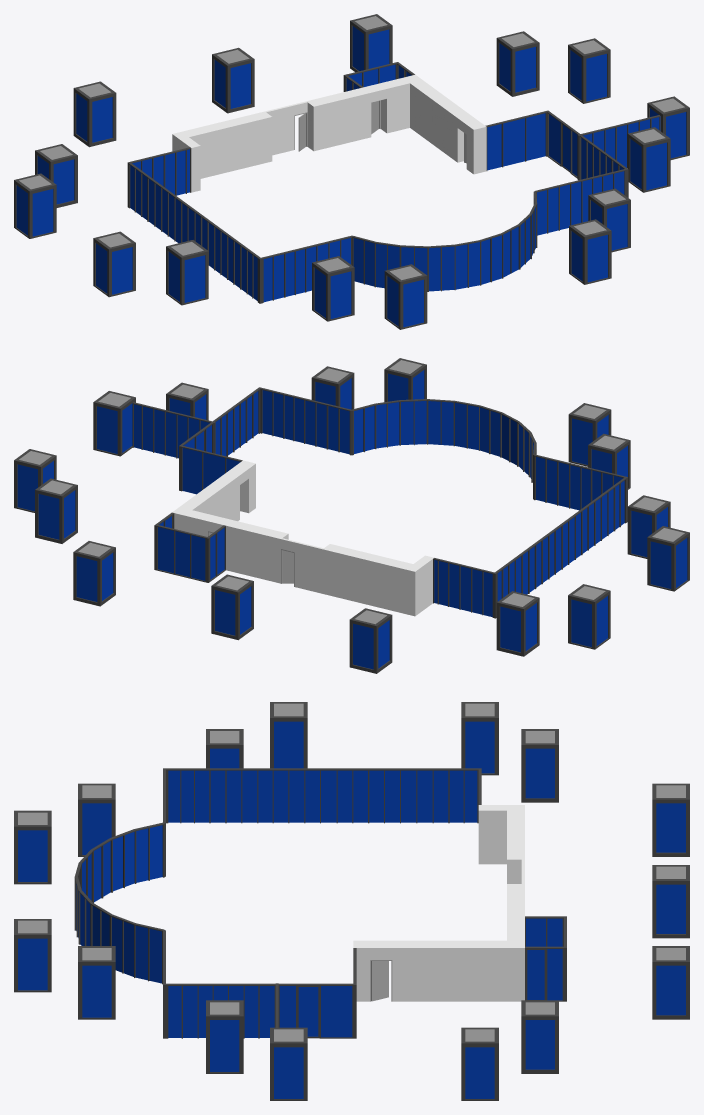
The model's file is floor3.glb.
3 renders of one model, top to bottom at view 1: azimuth 30°, elevation 25°; view 2: azimuth 150°, elevation 25°; view 3: azimuth 270°, elevation 25°, orthographic. The views are drawn at different scales.
Parts seen in each view (by area): view 1: Floor plans Parking Level 3 (1), Floor plans Parking Level 3 Window Glass, Floor plans Parking Level 3 Wall, Floor plans Parking Level 3 Window Joinery; view 2: Floor plans Parking Level 3 (1), Floor plans Parking Level 3 Window Glass, Floor plans Parking Level 3 Wall, Floor plans Parking Level 3 Window Joinery; view 3: Floor plans Parking Level 3 (1), Floor plans Parking Level 3 Window Glass, Floor plans Parking Level 3 Wall, Floor plans Parking Level 3 Window Joinery.
Boxes of the visible parts, bbox=[...] form: Floor plans Parking Level 3 (1): bbox=[14, 14, 689, 329]; Floor plans Parking Level 3 Window Glass: bbox=[130, 64, 660, 302]; Floor plans Parking Level 3 Wall: bbox=[172, 74, 486, 192]; Floor plans Parking Level 3 Window Joinery: bbox=[127, 62, 660, 303]; Floor plans Parking Level 3 (1): bbox=[14, 358, 689, 673]; Floor plans Parking Level 3 Window Glass: bbox=[132, 390, 624, 616]; Floor plans Parking Level 3 Wall: bbox=[172, 460, 433, 616]; Floor plans Parking Level 3 Window Joinery: bbox=[122, 387, 627, 618]; Floor plans Parking Level 3 (1): bbox=[14, 702, 689, 1100]; Floor plans Parking Level 3 Window Glass: bbox=[76, 770, 562, 1037]; Floor plans Parking Level 3 Wall: bbox=[353, 805, 524, 1001]; Floor plans Parking Level 3 Window Joinery: bbox=[74, 768, 566, 1038].
Size of the model in its own units: 38.44 by 3.02 by 32.16.
